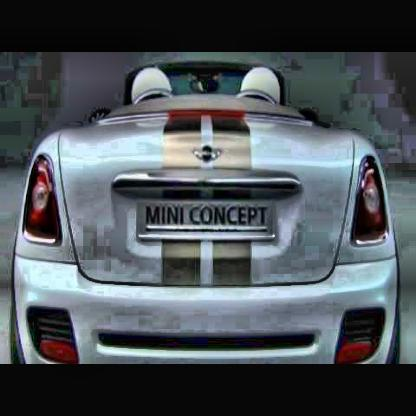MINI Cooper Roadster Convertible 2012: (14, 64, 403, 364)
